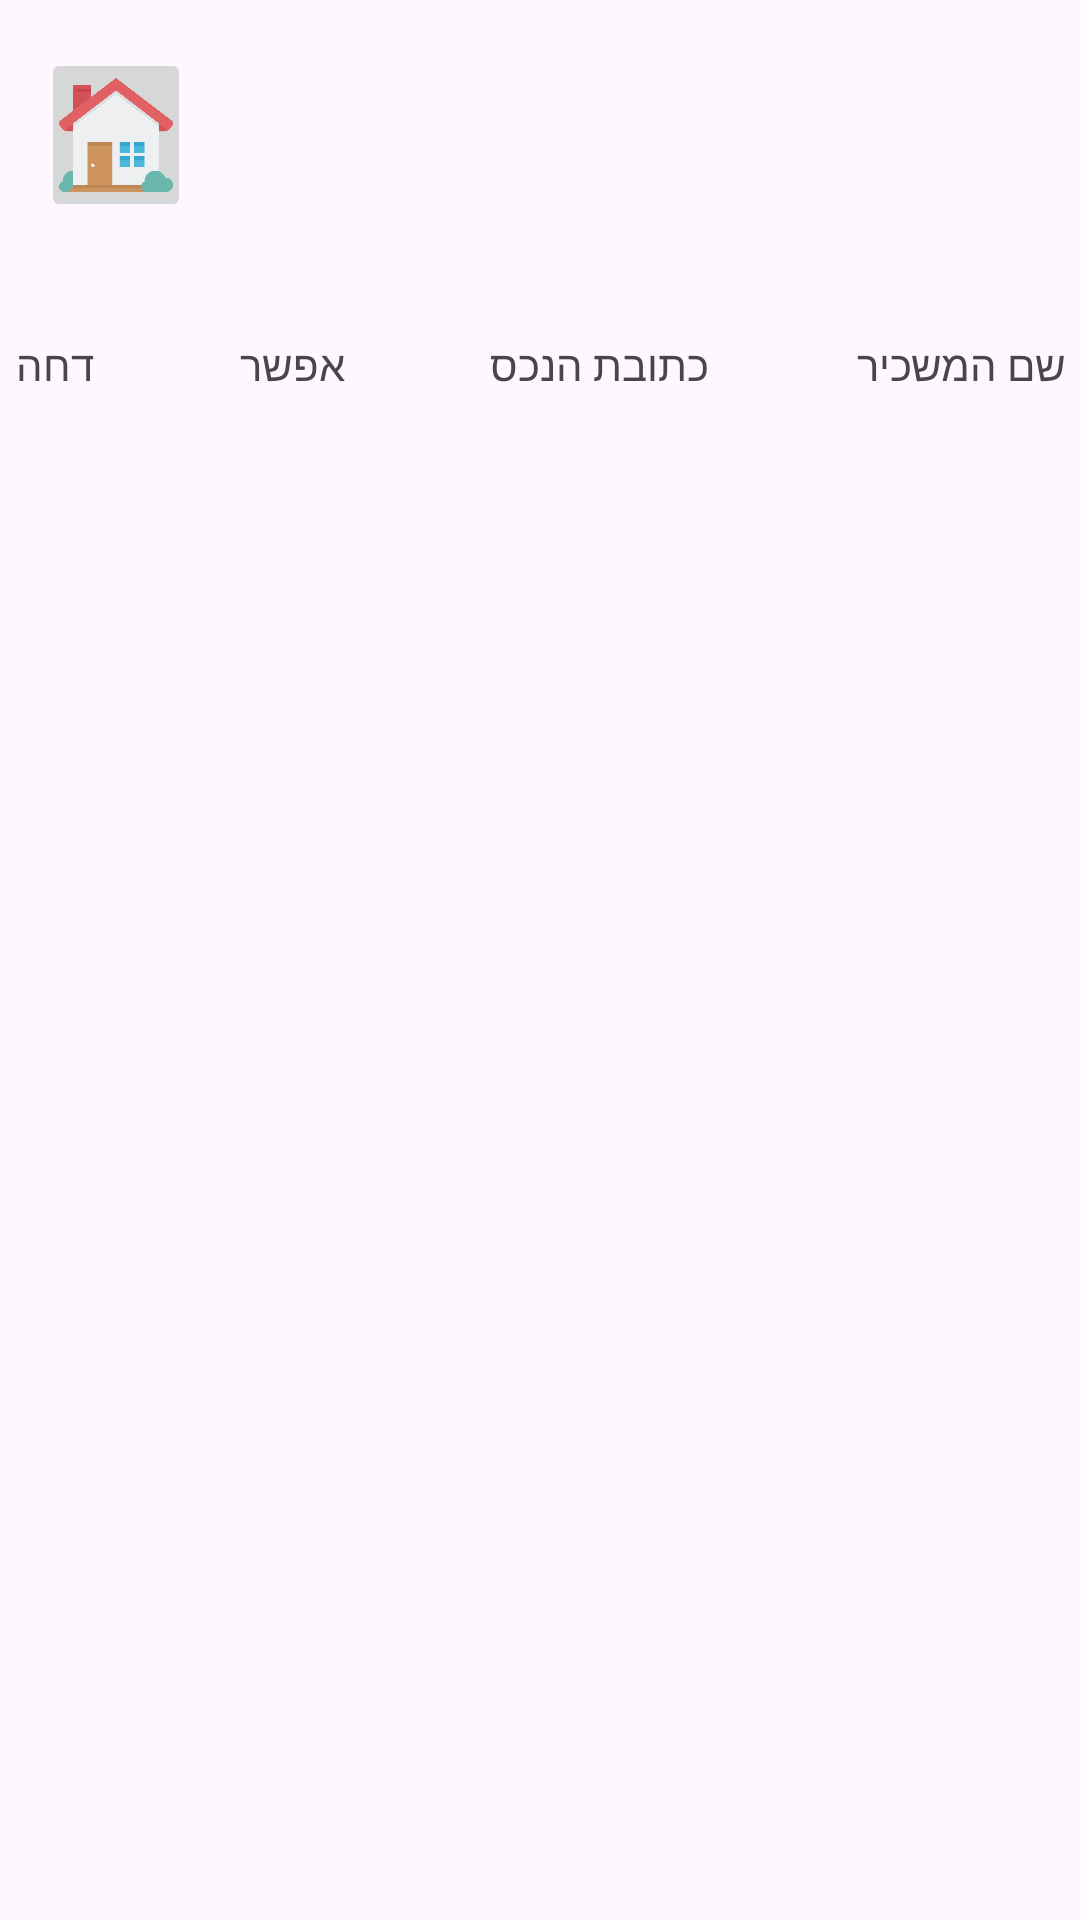

Screen size 1080×1920. Icon name, then its center in pixels as (x,y):
Home button for renter homepage: (116,135)
